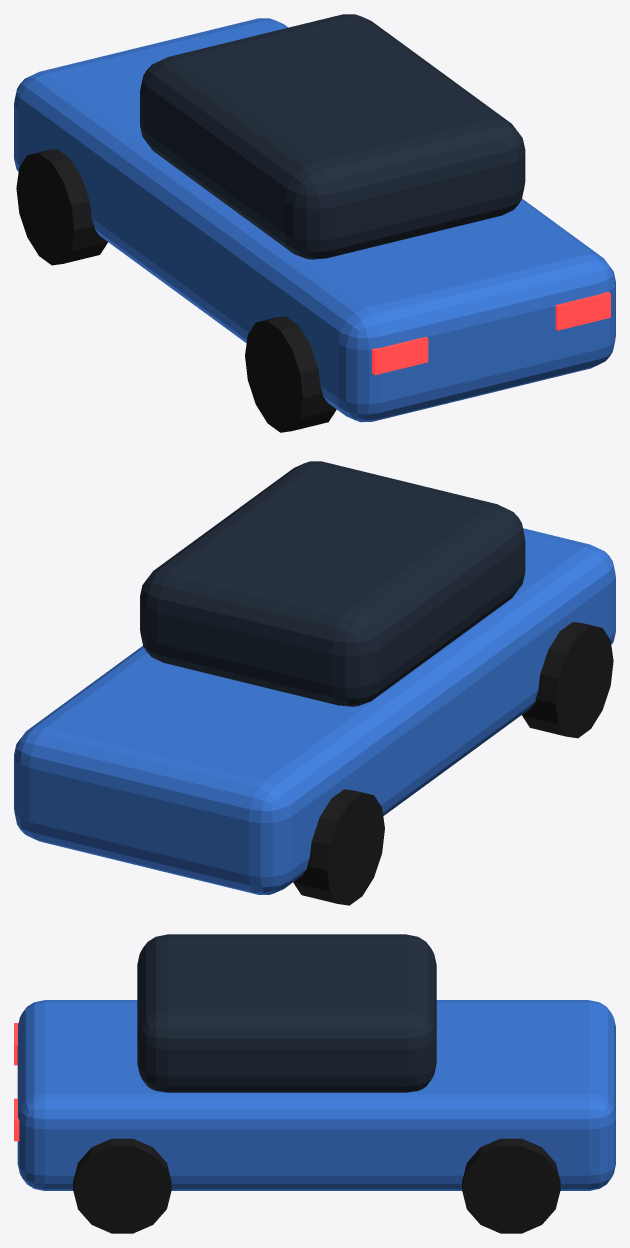
Rendered from rick-car-bSH7wJuy.glb.
3 renders of one model, top to bottom at view 1: azimuth 30°, elevation 25°; view 2: azimuth 150°, elevation 25°; view 3: azimuth 270°, elevation 25°, orthographic. The views are drawn at different scales.
Parts seen in each view (by area): view 1: Cube, Cube.001, Cylinder, Cylinder.001, Cube.002, Cube.003; view 2: Cube, Cube.001, Cylinder, Cylinder.001; view 3: Cube, Cube.001, Cylinder.002, Cylinder.003.
Part boxes in pixels (x1,y1,x2,y2): Cube: (14,18,615,422); Cube.001: (140,14,525,259); Cylinder: (245,316,336,432); Cylinder.001: (16,149,107,265); Cube.002: (371,337,428,375); Cube.003: (555,291,610,330); Cube: (14,528,615,894); Cube.001: (140,461,525,706); Cylinder: (522,622,613,738); Cylinder.001: (293,789,384,905); Cube: (17,1000,615,1190); Cube.001: (137,934,436,1092); Cylinder.002: (73,1138,171,1233); Cylinder.003: (462,1138,560,1233).
Size of the model in its own units: 2.04 by 1.44 by 4.03.
